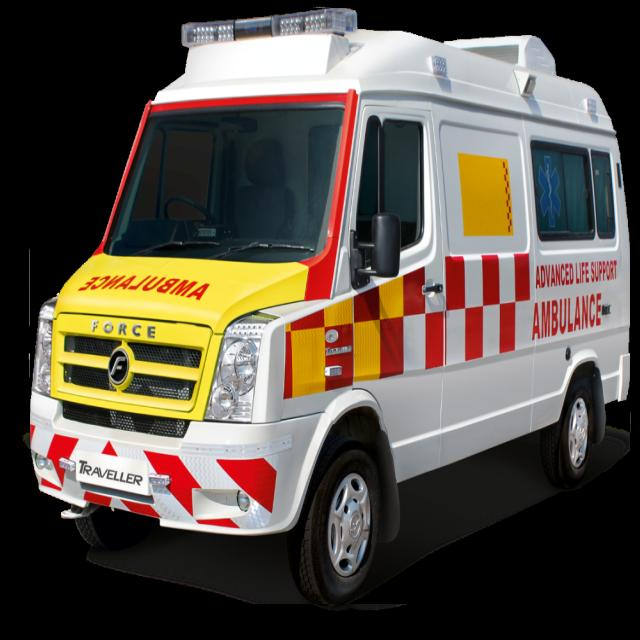emergency: (30, 9, 630, 604)
